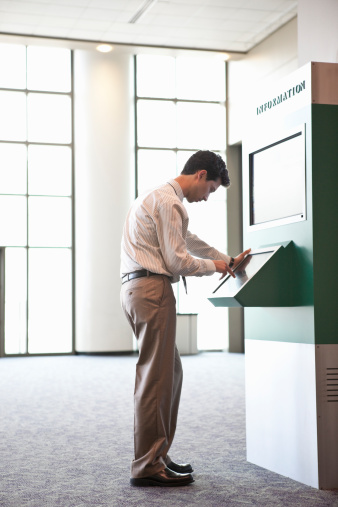em pe: (117, 139, 236, 475)
